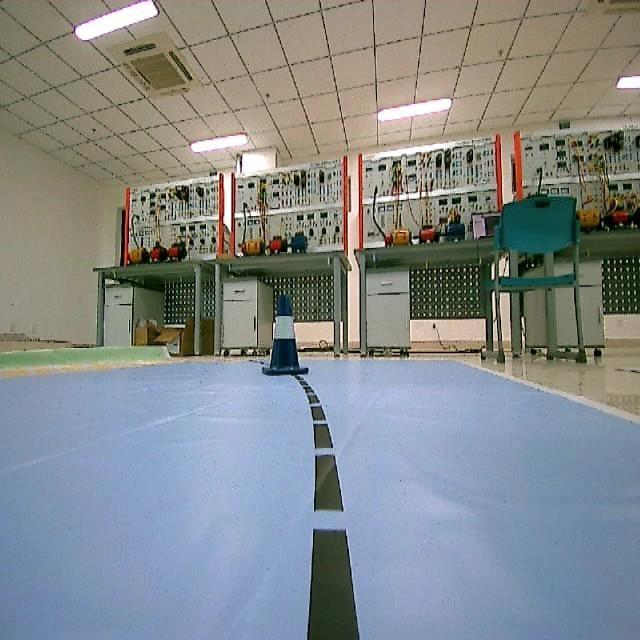obstacle: (258, 293, 320, 380)
